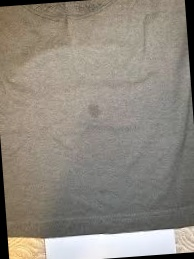oil: (79, 97, 107, 132)
